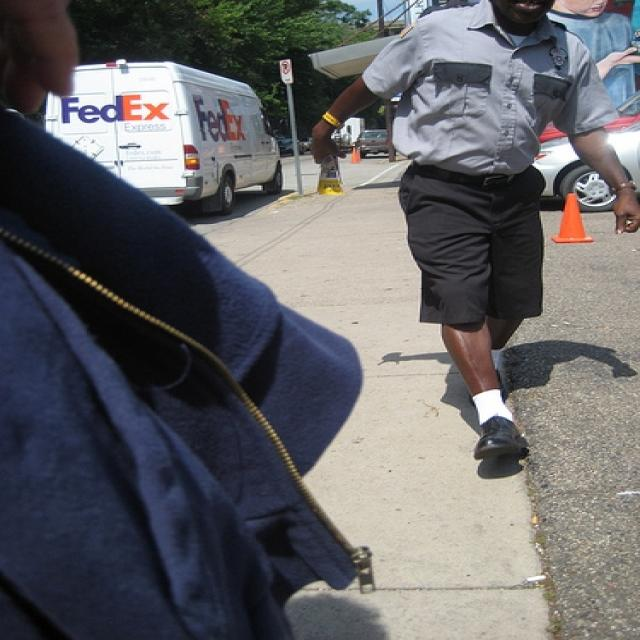fedex: (56, 92, 177, 128), (189, 95, 255, 145)
